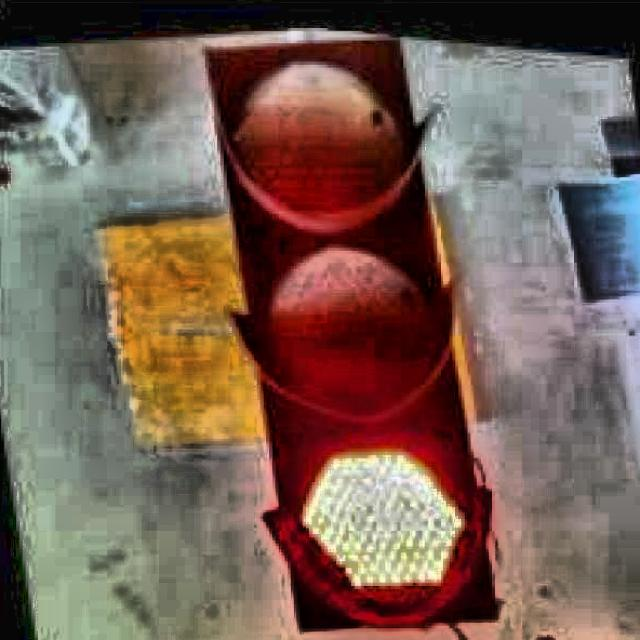red: (208, 37, 502, 629)
